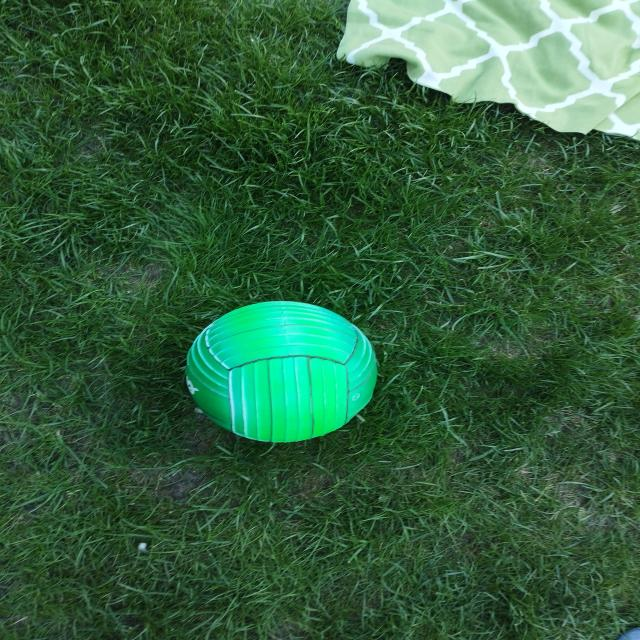zielona: (184, 300, 377, 443)
